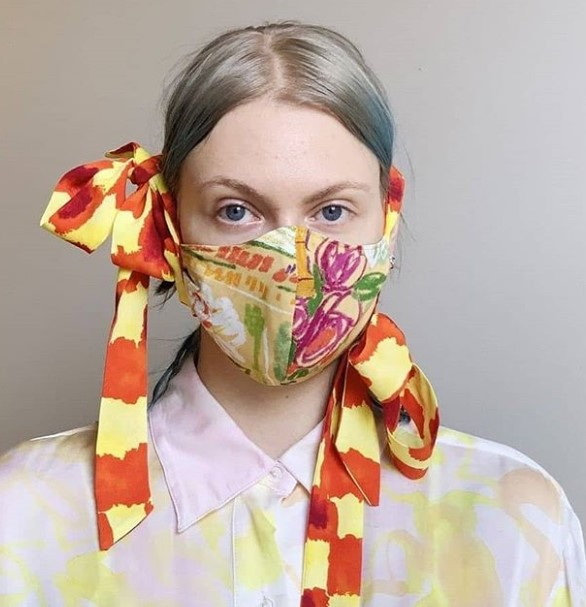face_with_mask: (158, 30, 408, 391)
